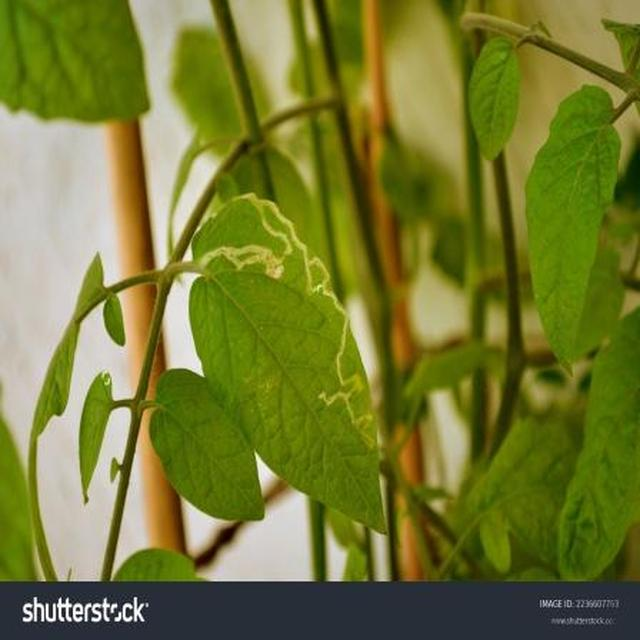Leaf Miner: (84, 140, 640, 633)
